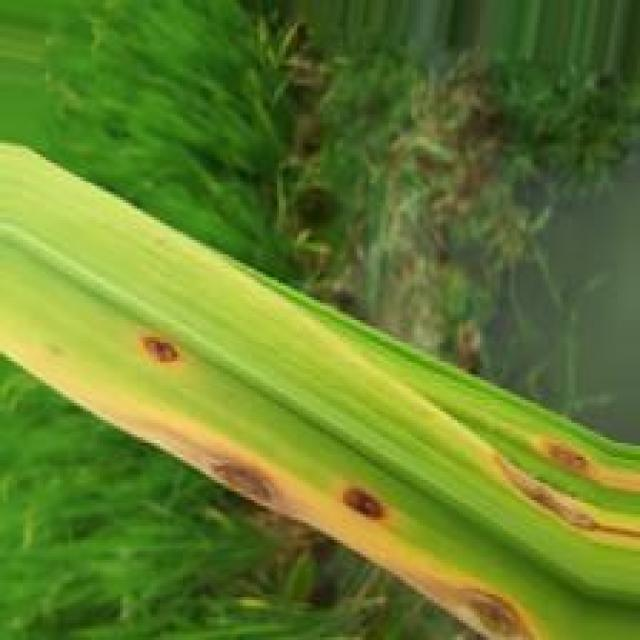Brown_Spot: (482, 449, 640, 544), (380, 560, 535, 640), (191, 438, 283, 512), (529, 432, 602, 491), (326, 475, 401, 530), (129, 326, 188, 364)
